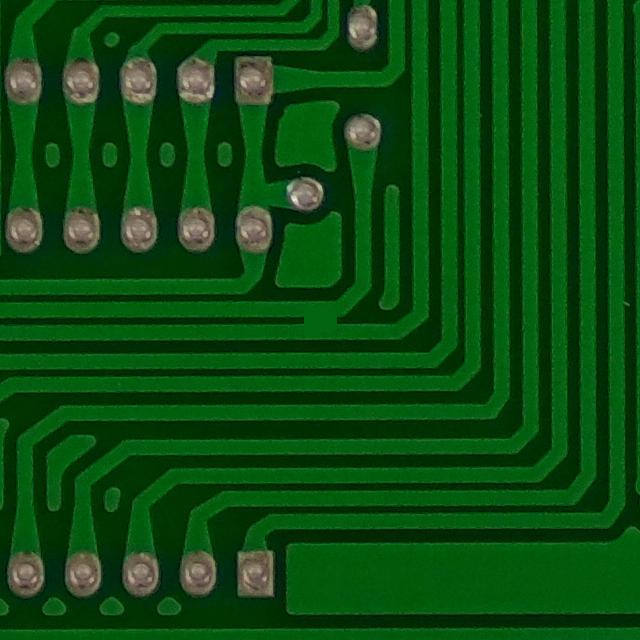short: (289, 293, 351, 348)
